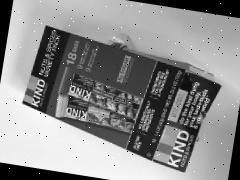paper: (0, 1, 240, 180)
